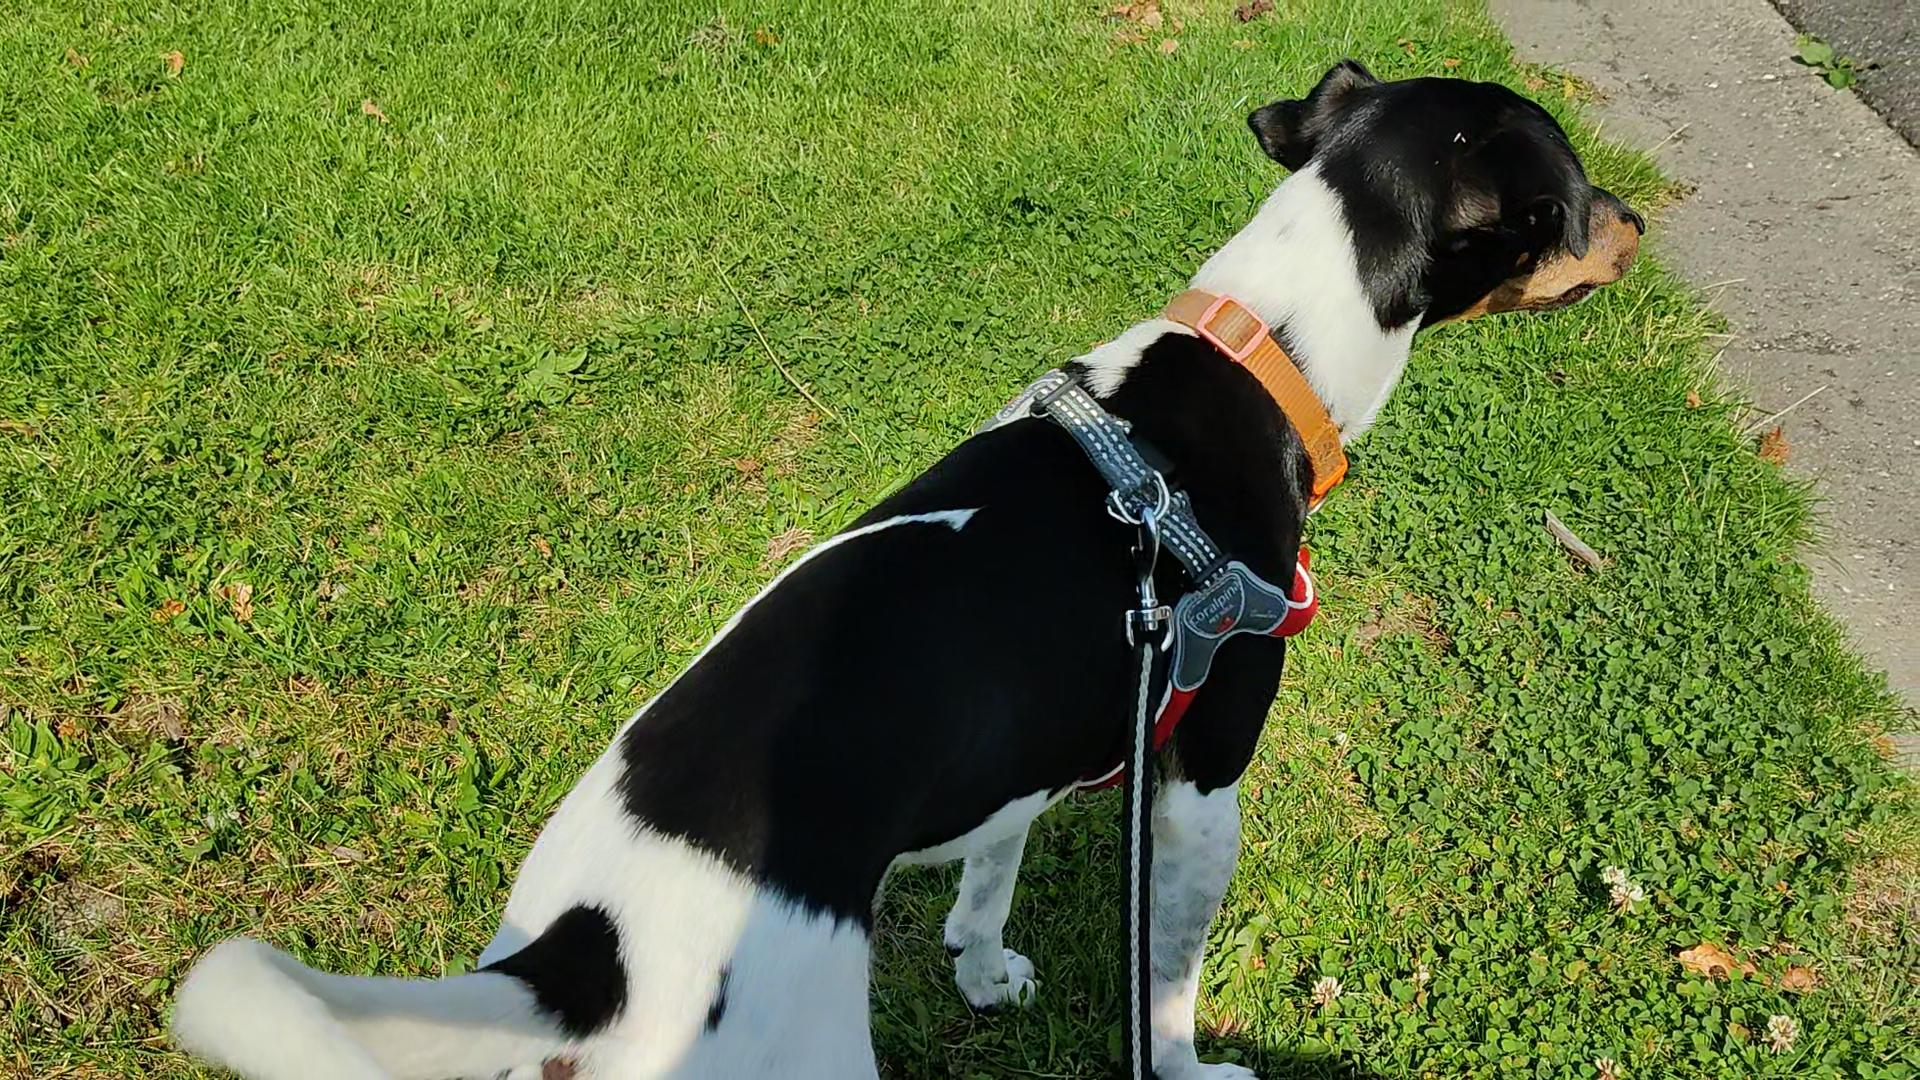Dog: (154, 53, 1648, 1079)
